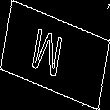M_S: (36, 25, 74, 85)
